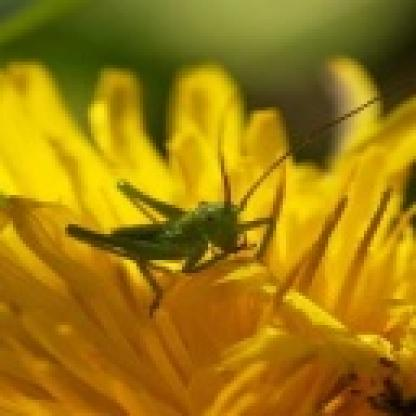grasshopper: (66, 176, 269, 287)
